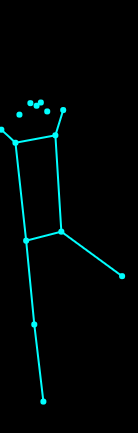tree: (1, 84, 129, 408)
